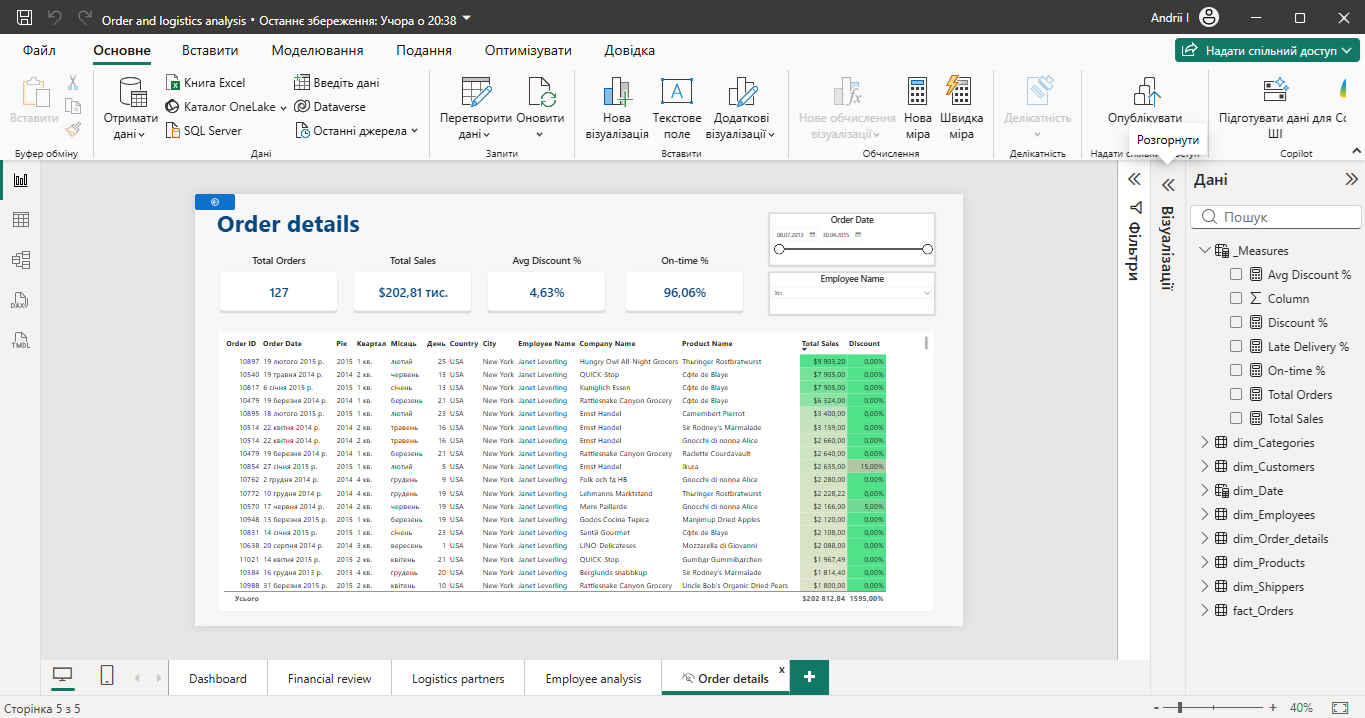

What the dashboard file says about the page in this screenshot:
{"tool":"powerbi","page":{"name":"Order details","canvas":[1920,1080],"ordinal":4},"visuals":[{"type":"textbox","box":[204,20,372,94],"z":0},{"type":"cardVisual","title":"Total Orders","fields":{"Data":["_Measures.Total Orders"]},"box":[54,151.2,308.9,149],"z":1000},{"type":"cardVisual","title":"Total Sales","fields":{"Data":["_Measures.Total Sales"]},"box":[391,151.2,308.9,149],"z":2000},{"type":"cardVisual","title":"Avg Discount %","fields":{"Data":["_Measures.Avg Discount %"]},"box":[725.8,151.2,308.9,149],"z":3000},{"type":"cardVisual","title":"On-time %","fields":{"Data":["_Measures.On-time %"]},"box":[1069.2,151.2,308.9,149],"z":4000},{"type":"slicer","title":"Employee Name","fields":{"Values":["dim_Employees.employeeName"]},"box":[1438.6,198.7,410.4,101.5],"z":5000},{"type":"slicer","title":"Order Date","fields":{"Values":["fact_Orders.orderDate"]},"box":[1438.6,49.7,410.4,127.4],"z":6000},{"type":"actionButton","box":[0,0,100,40],"z":7000},{"type":"tableEx","fields":{"Values":["fact_Orders.orderID","fact_Orders.orderDate","fact_Orders.shippedDate.Варіація.Ієрархія дат.Рік","fact_Orders.shippedDate.Варіація.Ієрархія дат.Квартал","fact_Orders.shippedDate.Варіація.Ієрархія дат.Місяць","fact_Orders.shippedDate.Варіація.Ієрархія дат.День","dim_Employees.country","dim_Employees.city","dim_Employees.employeeName","dim_Customers.companyName","dim_Products.productName","_Measures.Total Sales"]},"box":[54,339.1,1795,704.2],"z":8000}]}

Visuals, with their boxes on the page's 1920x1080 design canvas (x1, y1, x2, y2). These are canvas units, not pixel positions in the 1365x718 screenshot, which may show the page scaled, cropped or inside an application window:
textbox: bbox(204, 20, 576, 114)
"Total Orders" cardVisual: bbox(54, 151, 363, 300)
"Total Sales" cardVisual: bbox(391, 151, 700, 300)
"Avg Discount %" cardVisual: bbox(726, 151, 1035, 300)
"On-time %" cardVisual: bbox(1069, 151, 1378, 300)
"Employee Name" slicer: bbox(1439, 199, 1849, 300)
"Order Date" slicer: bbox(1439, 50, 1849, 177)
actionButton: bbox(0, 0, 100, 40)
tableEx - fact_Orders.orderID x fact_Orders.orderDate: bbox(54, 339, 1849, 1043)
